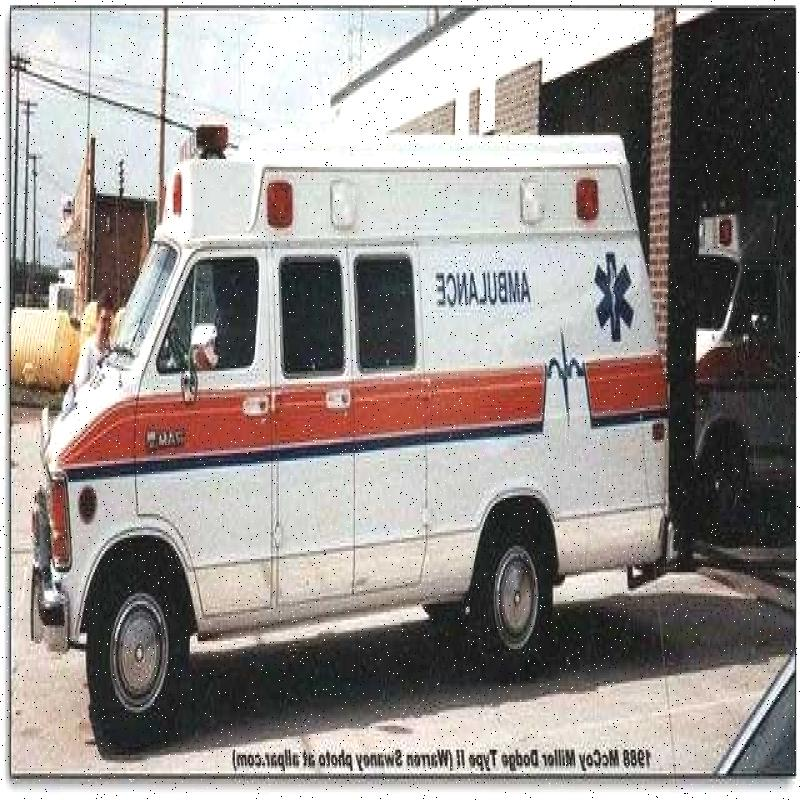AmbulanceSiren: (172, 105, 232, 172)
